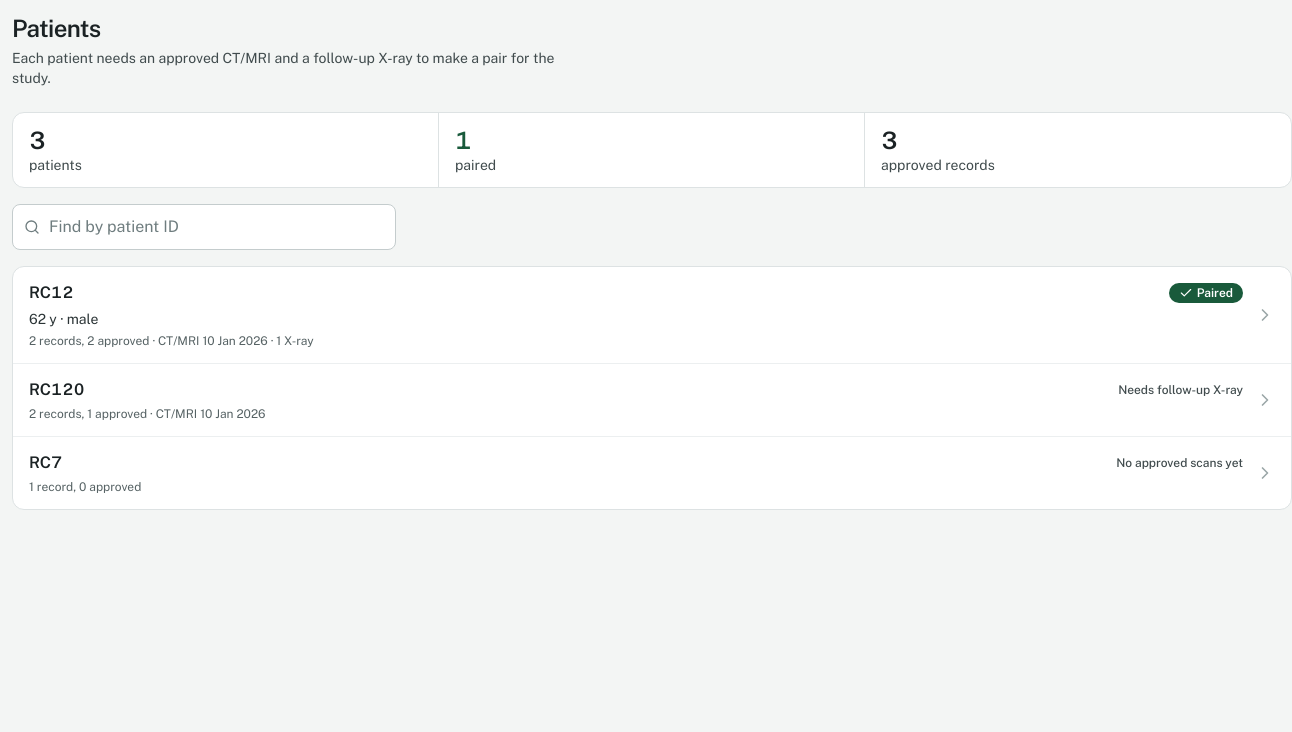
PatientsPage › says so when the search finds nobody
The image size is (1292, 732).
Expected: the link "RC120" is shown, [29,380,1275,421]
Type "RC999" into the field named "Find a patient" at coordinates (204, 227), box [12,204,396,250]
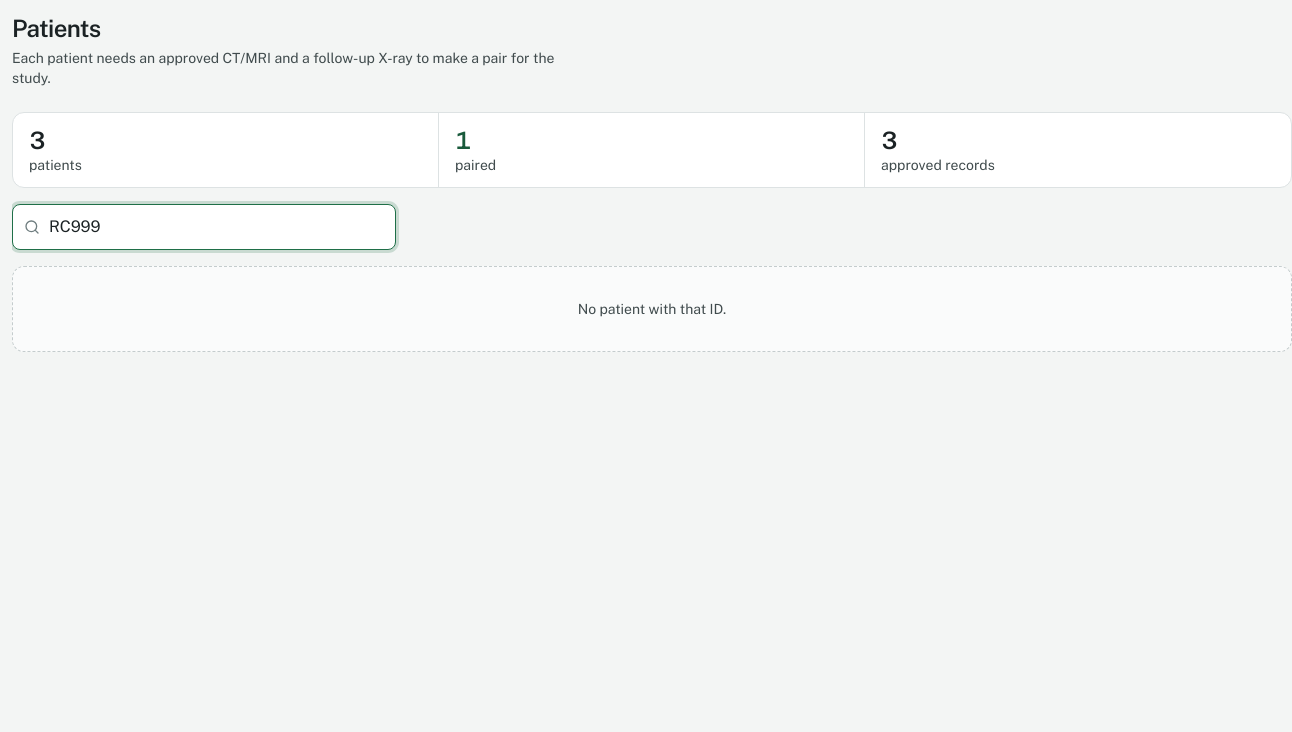
Now the text "No patient with that ID." is shown, box [578,299,726,319]
